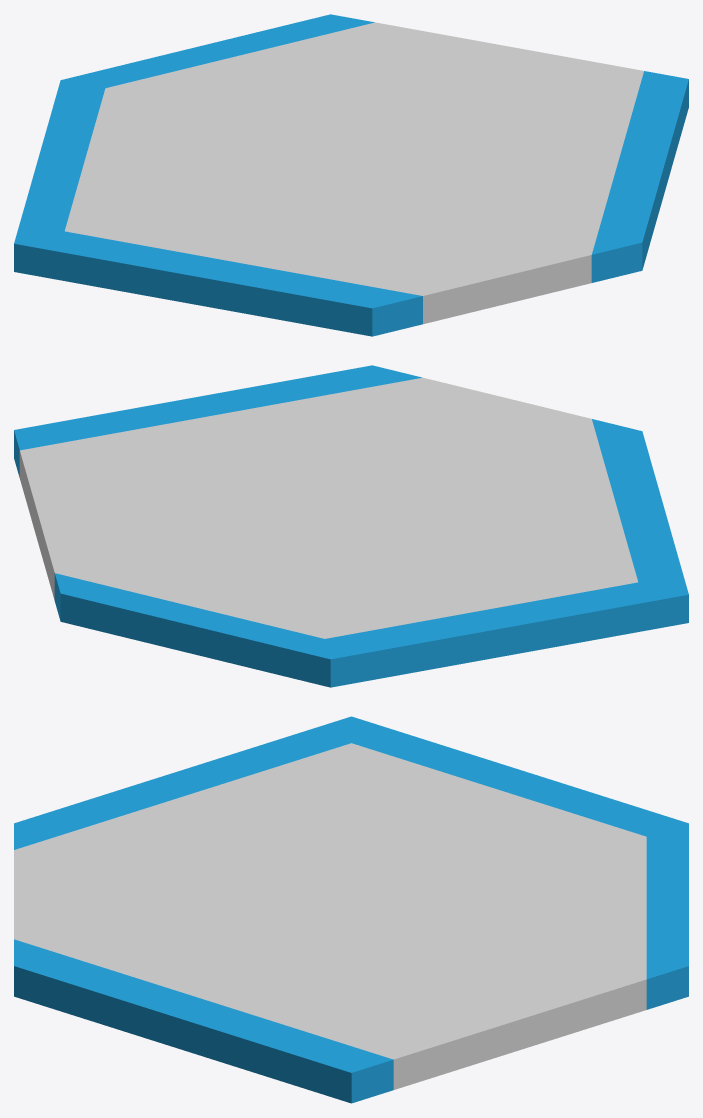
The picture shows the model from 3 angles, top to bottom: view 1: azimuth 30°, elevation 25°; view 2: azimuth 150°, elevation 25°; view 3: azimuth 270°, elevation 25°; orthographic projection. The views are drawn at different scales.
Visible parts, largest first — view 1: Hexagon, SW, SE, NW, N; view 2: Hexagon, NW, N, SE, SW; view 3: Hexagon, SE, SW, NW, N.
Part boxes in pixels (left/top/right/bottom): Hexagon: left=65, top=22, right=643, bottom=324; SW: left=14, top=231, right=422, bottom=336; SE: left=591, top=71, right=688, bottom=282; NW: left=14, top=80, right=105, bottom=243; N: left=61, top=14, right=374, bottom=88; Hexagon: left=19, top=377, right=637, bottom=638; NW: left=325, top=582, right=688, bottom=687; N: left=54, top=573, right=330, bottom=687; SE: left=14, top=365, right=421, bottom=477; SW: left=592, top=419, right=688, bottom=594; Hexagon: left=14, top=743, right=646, bottom=1089; SE: left=14, top=939, right=393, bottom=1103; SW: left=14, top=716, right=351, bottom=849; NW: left=351, top=716, right=688, bottom=836; N: left=646, top=823, right=688, bottom=1009.
Bounding box in the file's own units: 5 × 4 × 0.2.
